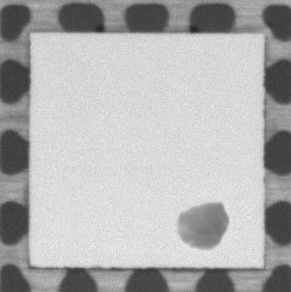DIE_INK: (174, 199, 229, 251)
